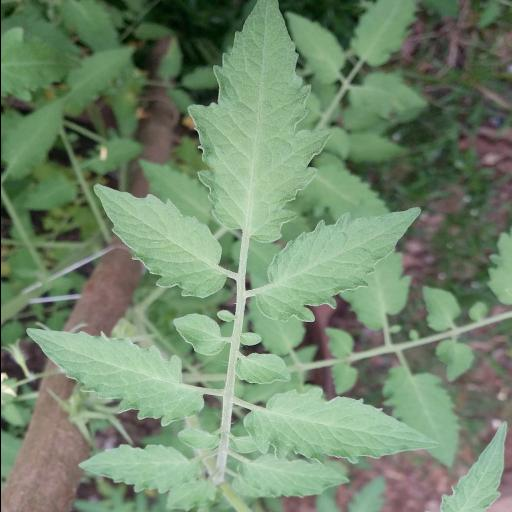Healthy: (186, 0, 332, 247), (254, 208, 422, 324), (26, 327, 204, 426), (93, 183, 228, 298), (242, 386, 440, 464), (76, 443, 202, 494), (238, 454, 352, 500)
